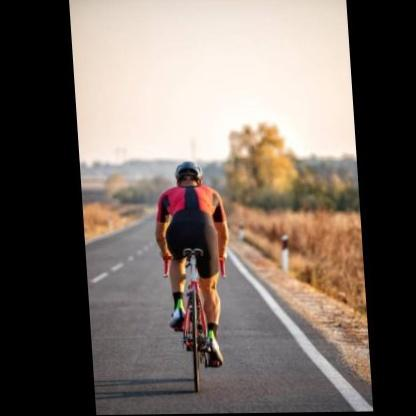Bicycle: (144, 223, 252, 402)
